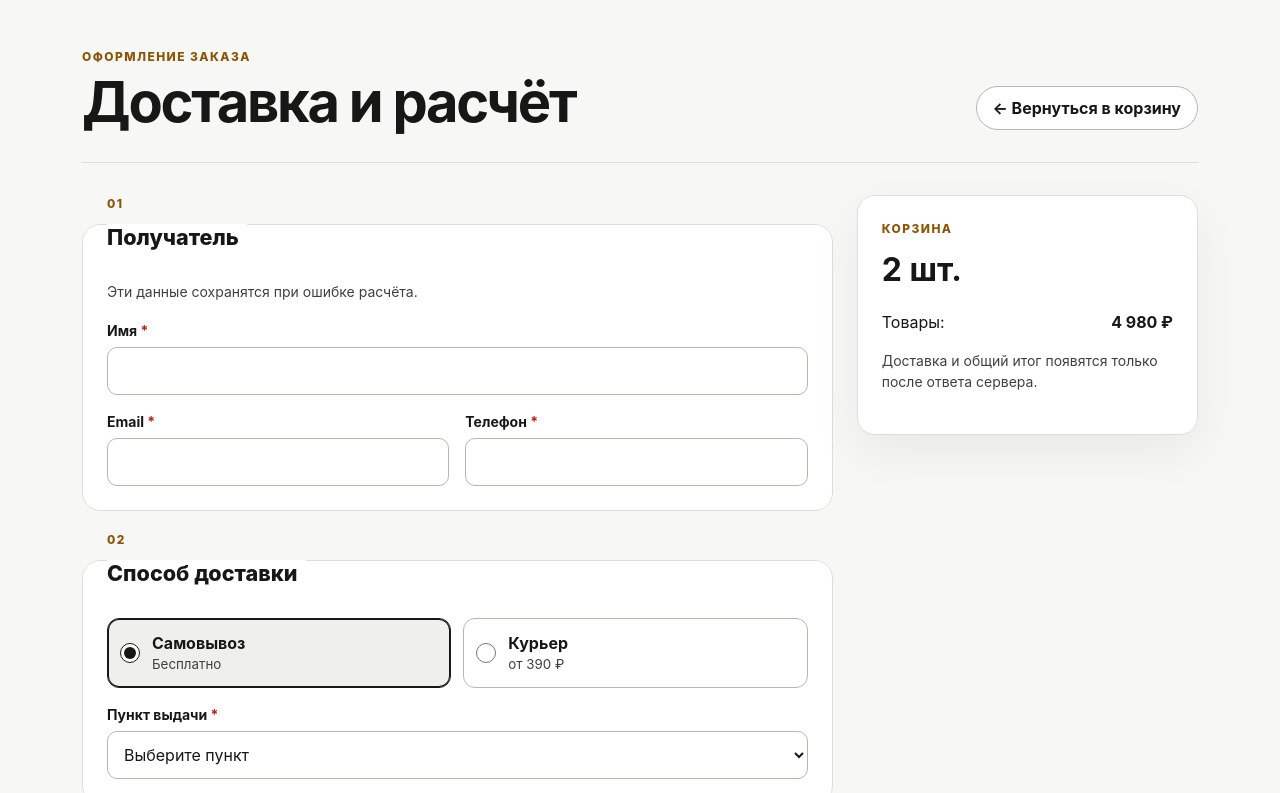
Checkout Page › associates server field errors with the matching delivery control
Type "Тестовый Покупатель" into the field labelled "Имя *" at [457, 371], box x1=107 y1=347 x2=808 y2=395
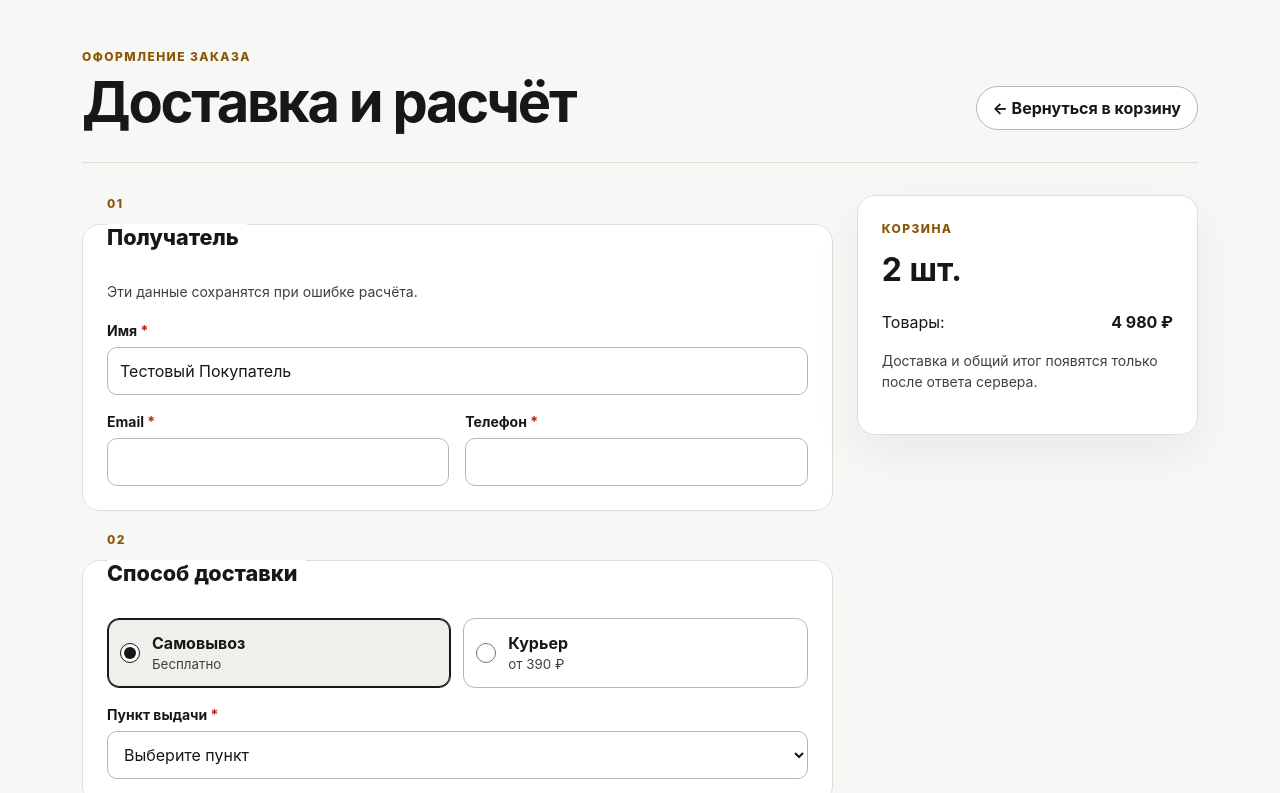
Type "buyer@example.test" into the field labelled "Email *" at [278, 462], box x1=107 y1=438 x2=449 y2=486
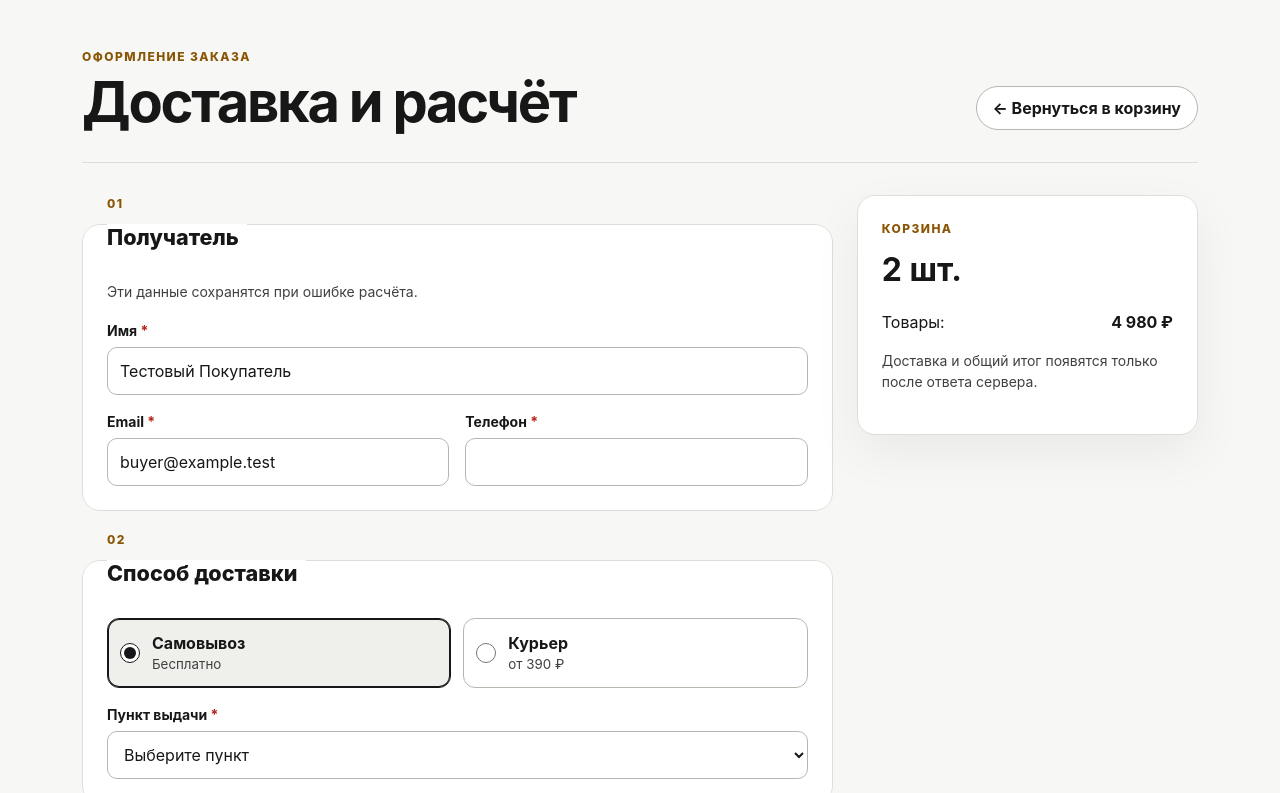
Type "+79990000000" into the field labelled "Телефон *" at [637, 462], box x1=465 y1=438 x2=808 y2=486
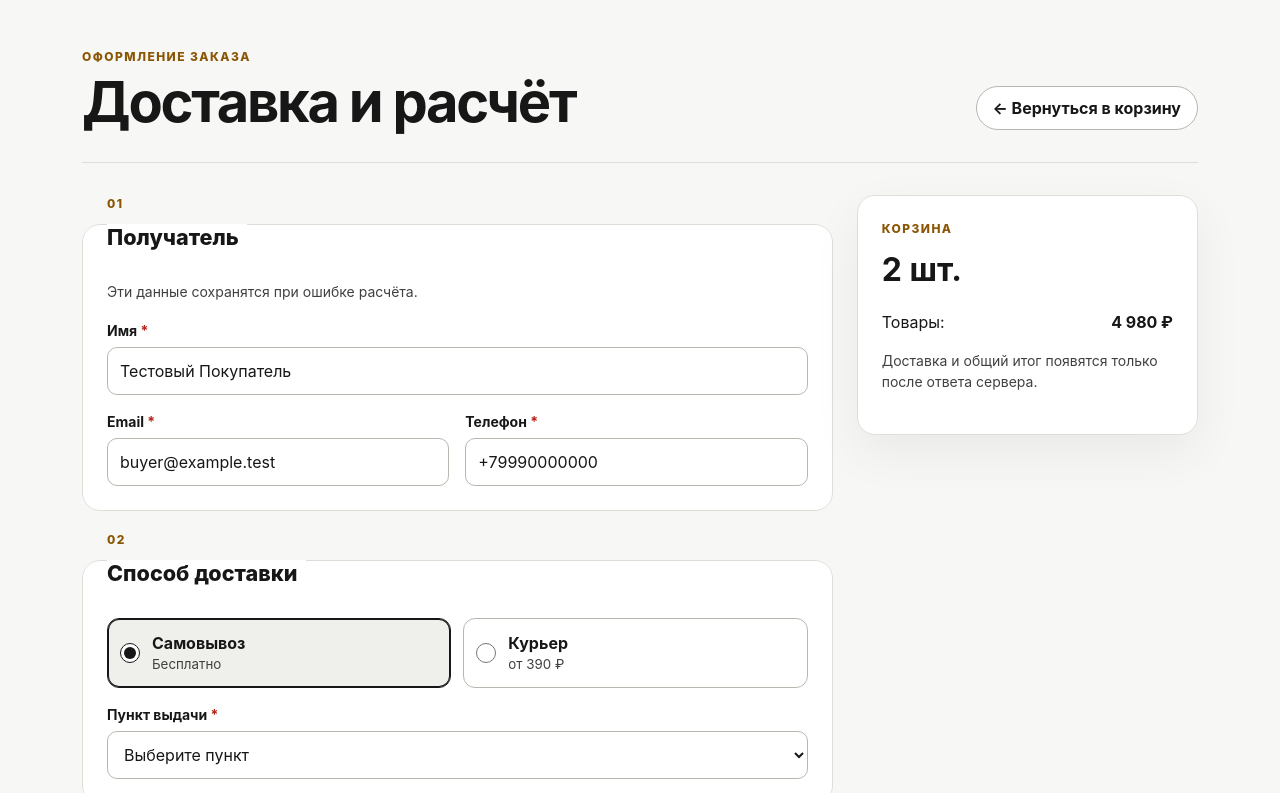
Select "Центр — Учебная, 1" in the dropdown labelled "Пункт выдачи *" at [457, 755], box x1=107 y1=731 x2=808 y2=779
(page scrolled)
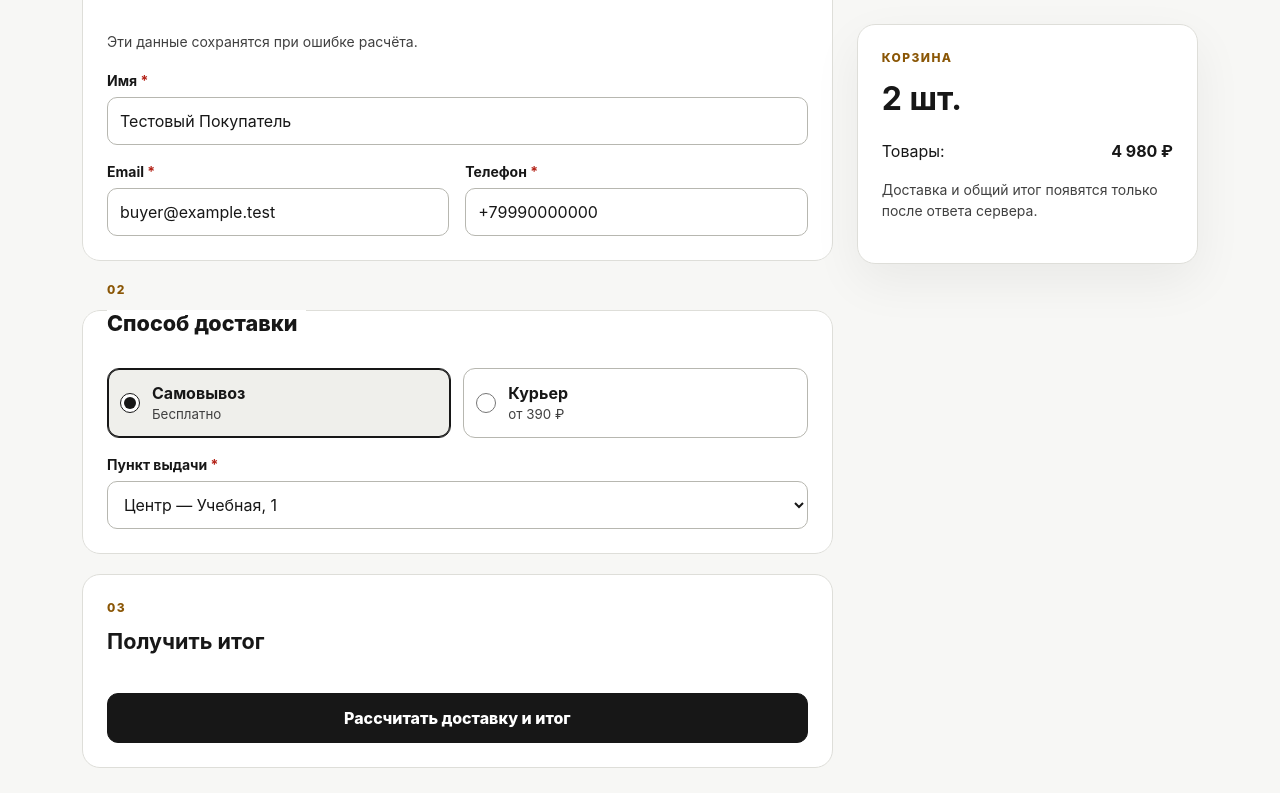
Click the button "Рассчитать доставку и итог" at [457, 718], box x1=107 y1=693 x2=808 y2=743
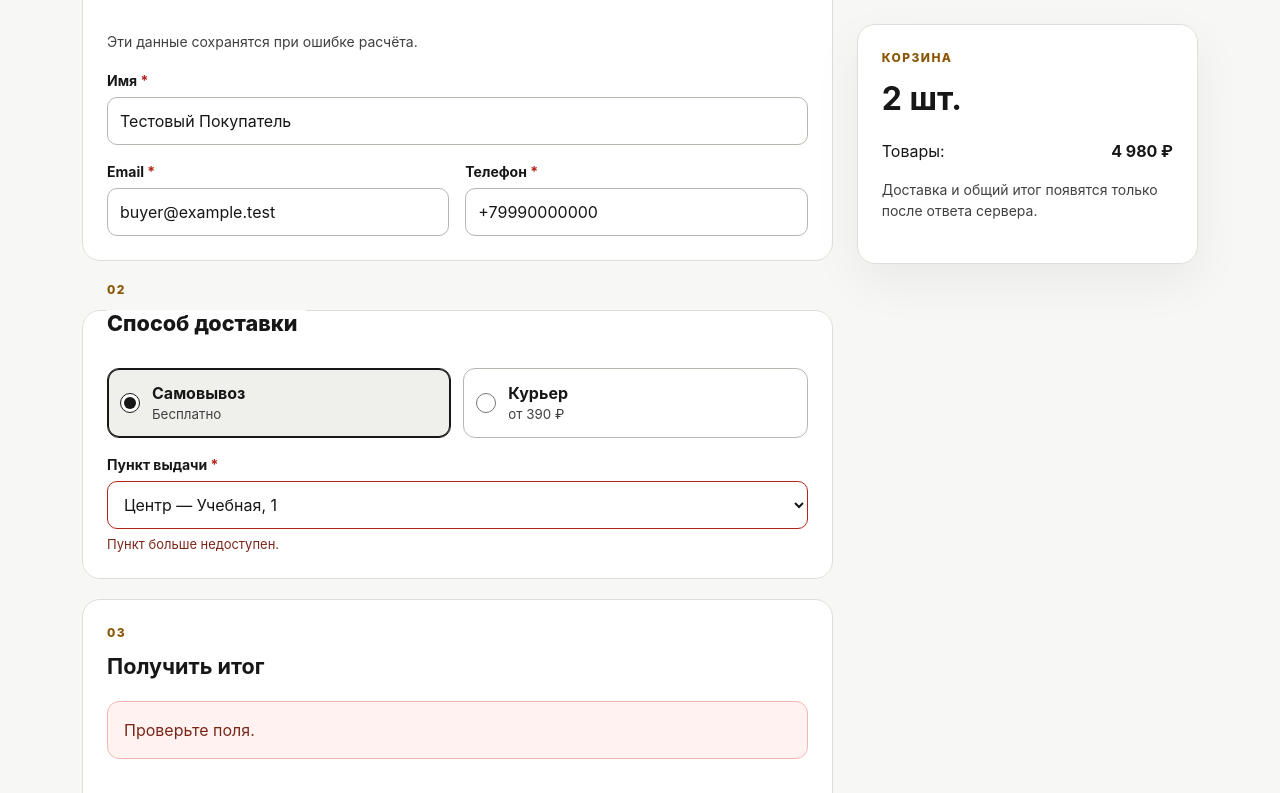
Expected: the text "Пункт больше недоступен." is shown, x1=107 y1=536 x2=279 y2=552
